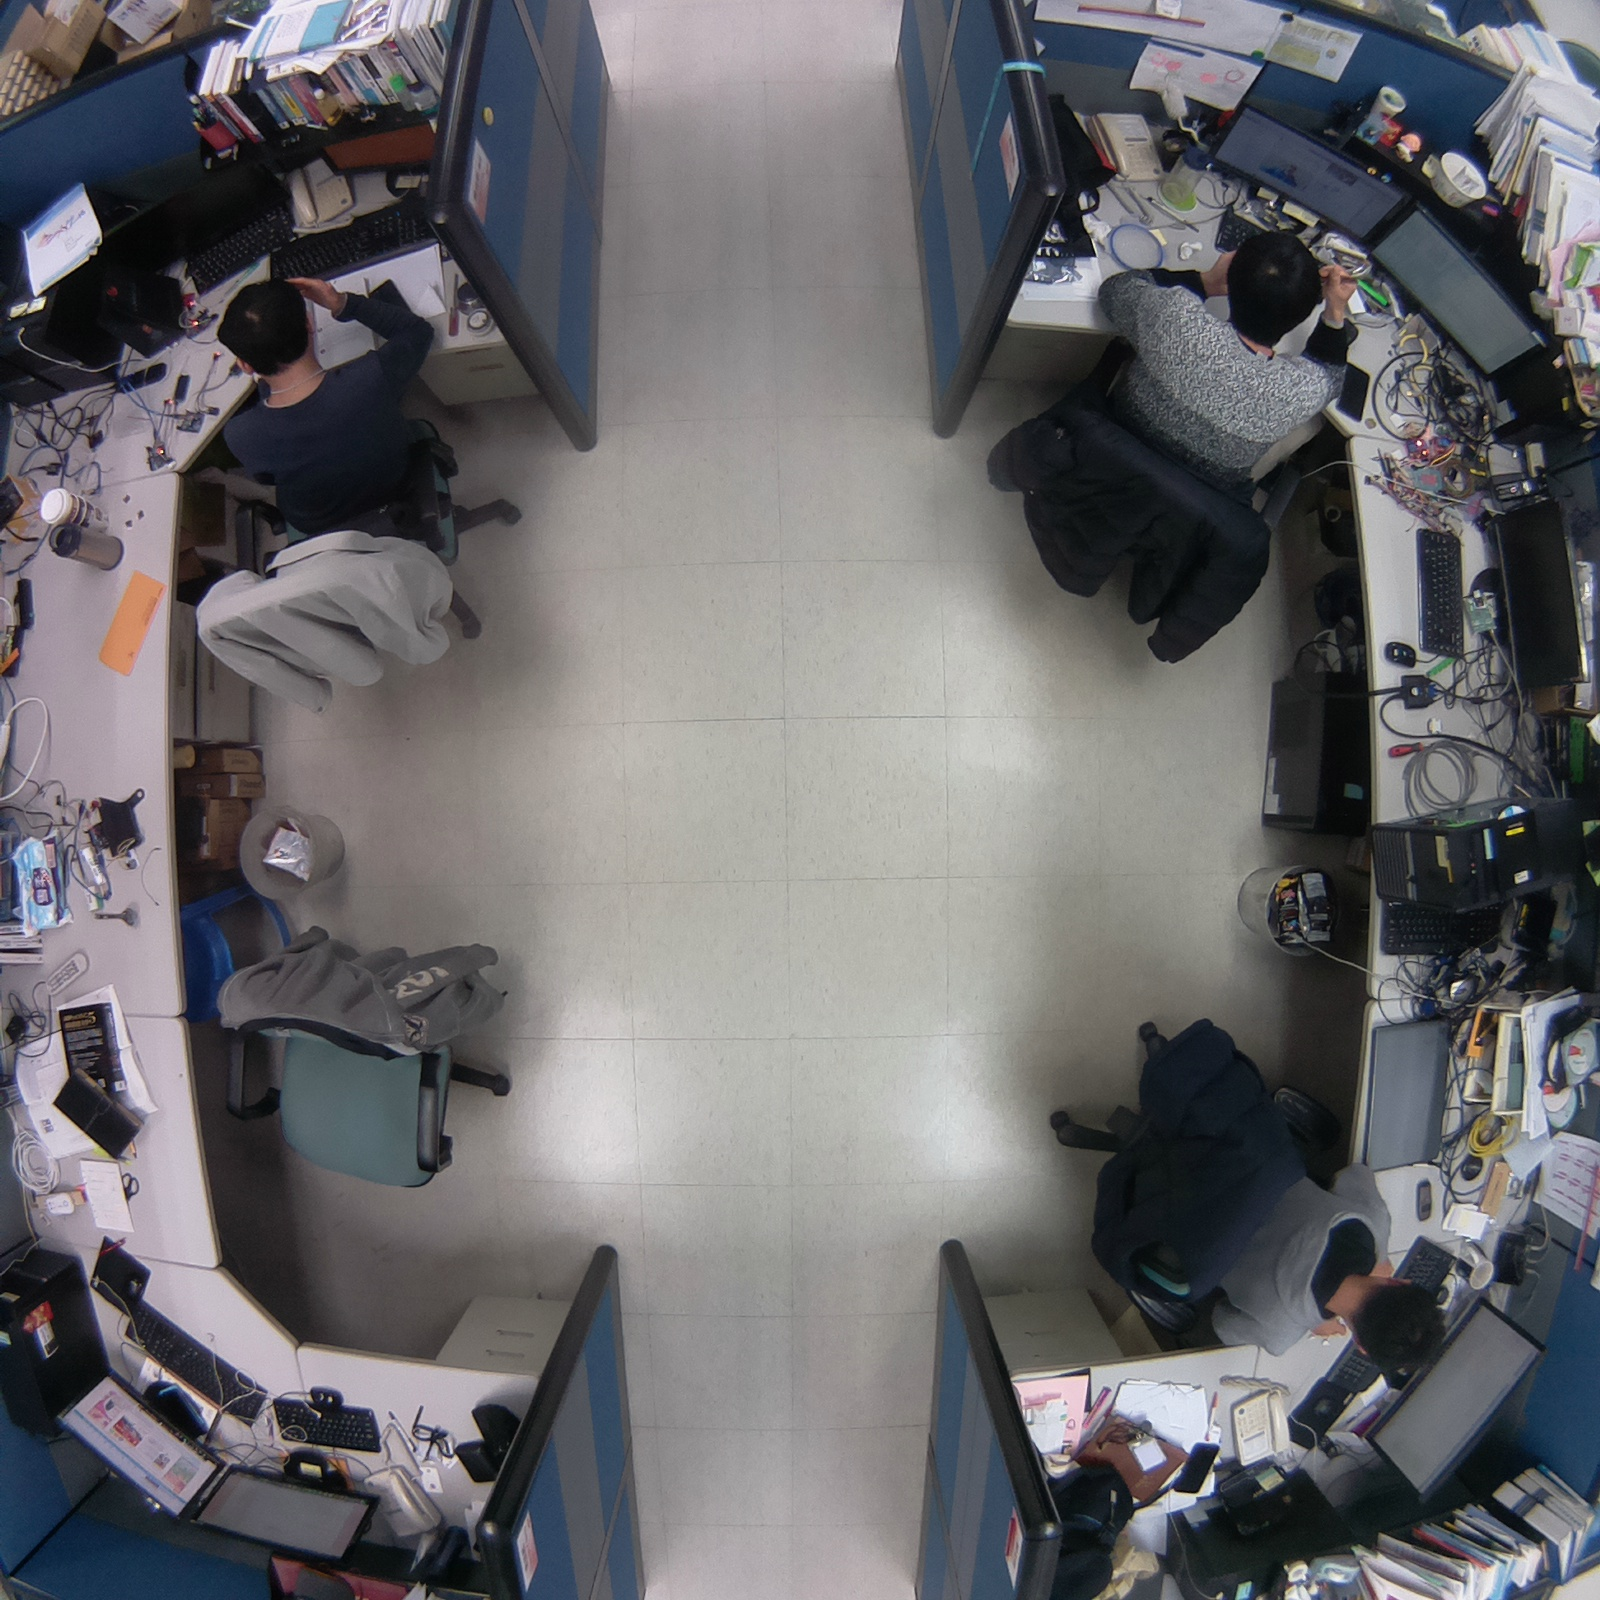chair: (204, 920, 538, 1207)
sitting: (954, 215, 1404, 689), (168, 253, 547, 725), (1034, 996, 1459, 1396)
